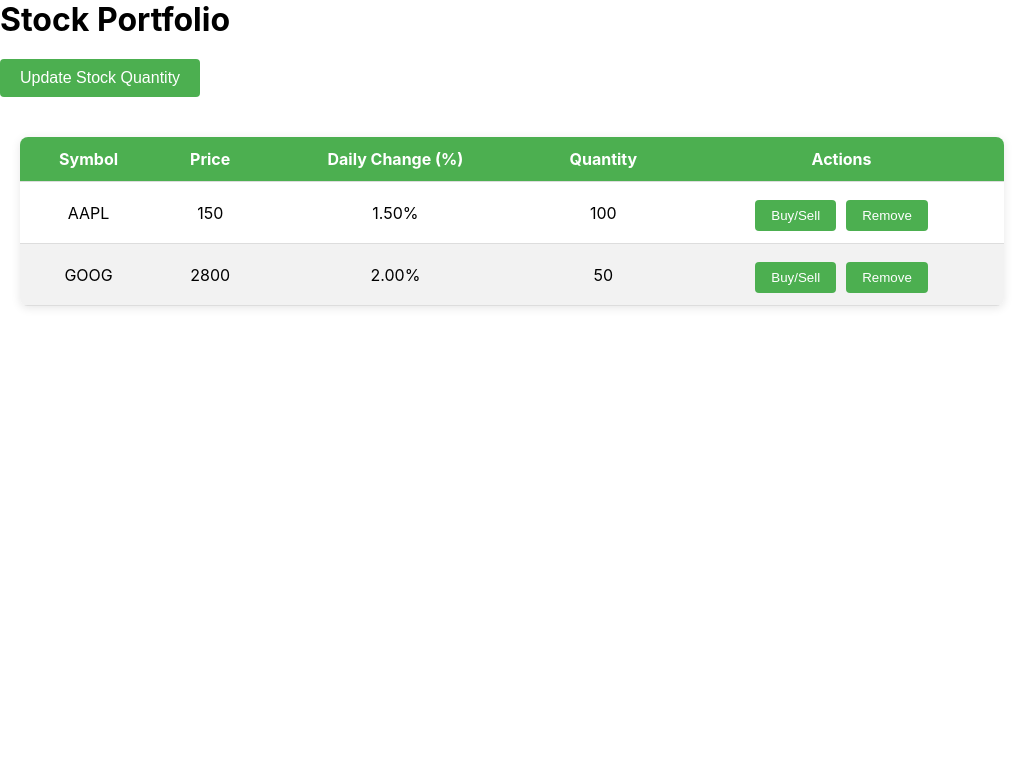
Test case: App › closes the modal when 'Cancel' is clicked
The width and height of the screenshot is (1024, 768).
Click the button with test id "update-stock-btn": (100, 78) [0,59,200,97]
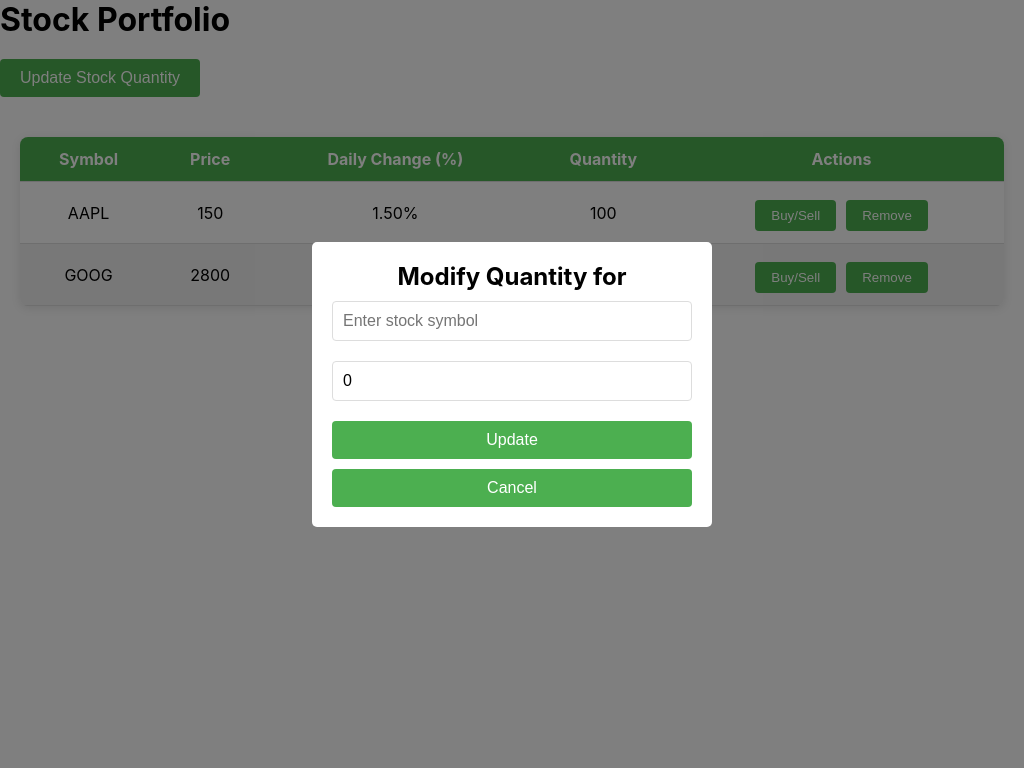
Expected: the heading "Modify Quantity for" is shown, [397,262,626,290]
Click the button with test id "cancel-btn": (512, 488) [332,468,692,506]
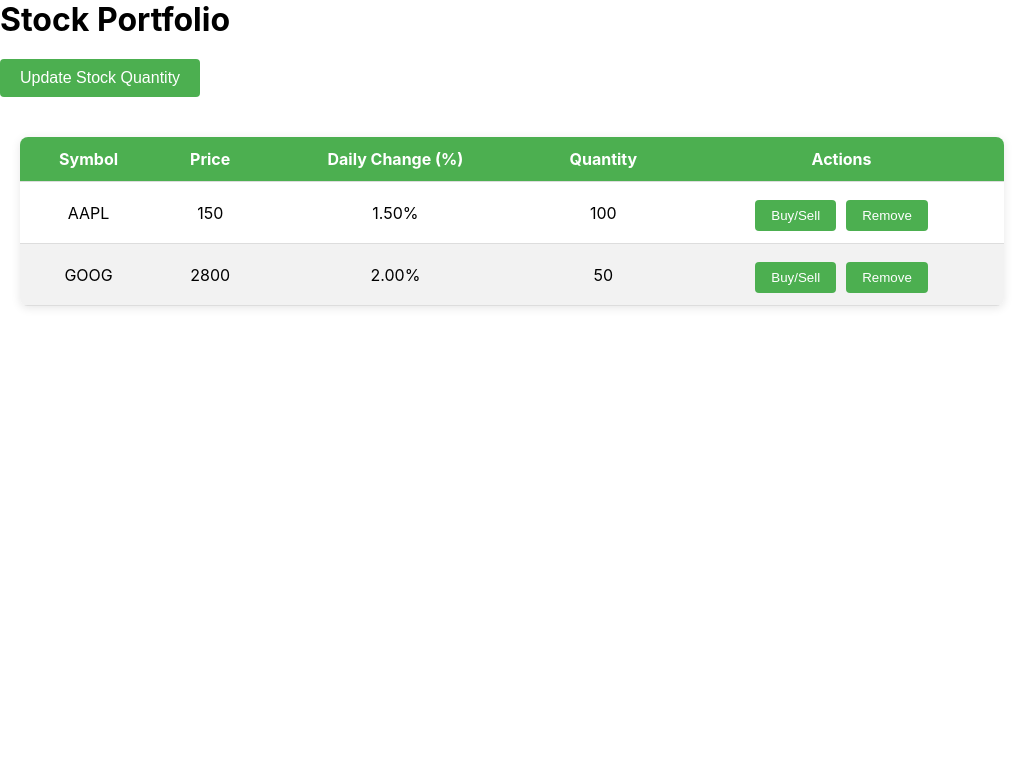
Expected: the heading with test id "update-stock-modal-h2" is gone
